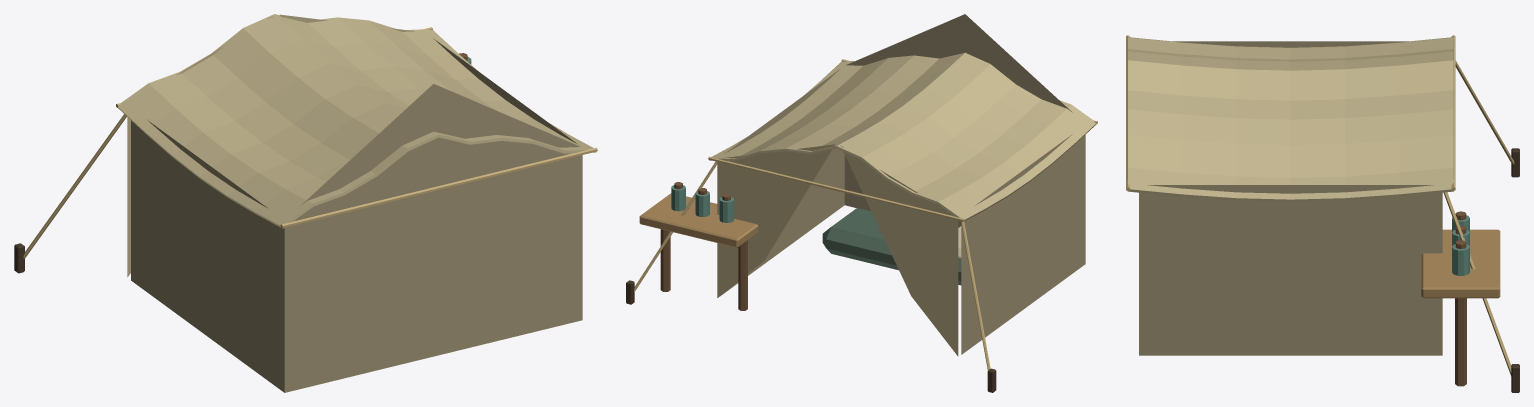
File: Camp_Medical_L1.fbx
3 views of the same model, side by side, from view 1: azimuth 30°, elevation 25°; view 2: azimuth 150°, elevation 25°; view 3: azimuth 270°, elevation 25° (orthographic). The views are drawn at different scales.
Parts seen in each view (by area): view 1: Camp_Medical_L1_Export; view 2: Camp_Medical_L1_Export; view 3: Camp_Medical_L1_Export.
Boxes of the visible parts, x1,y1,x2,y2 form: Camp_Medical_L1_Export: (14,14,597,392); Camp_Medical_L1_Export: (626,14,1097,392); Camp_Medical_L1_Export: (1126,35,1519,392).
Size of the model in its own units: 4.27 by 2.45 by 3.24.
